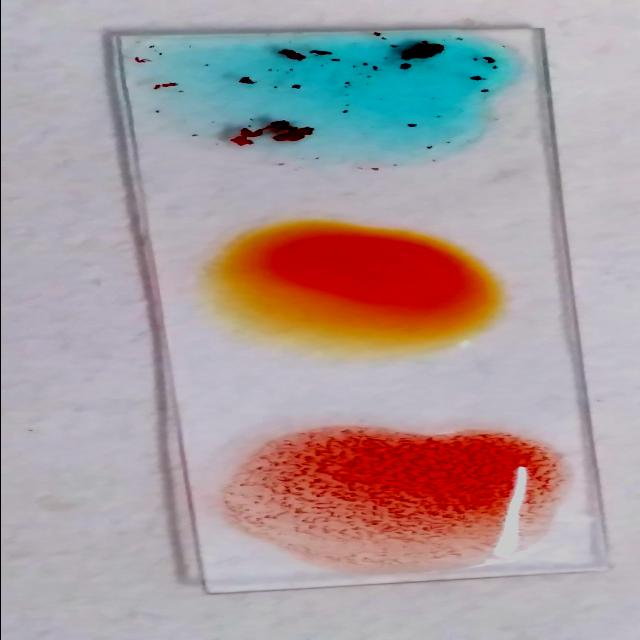A: (161, 32, 513, 156)
D: (232, 429, 564, 565)
